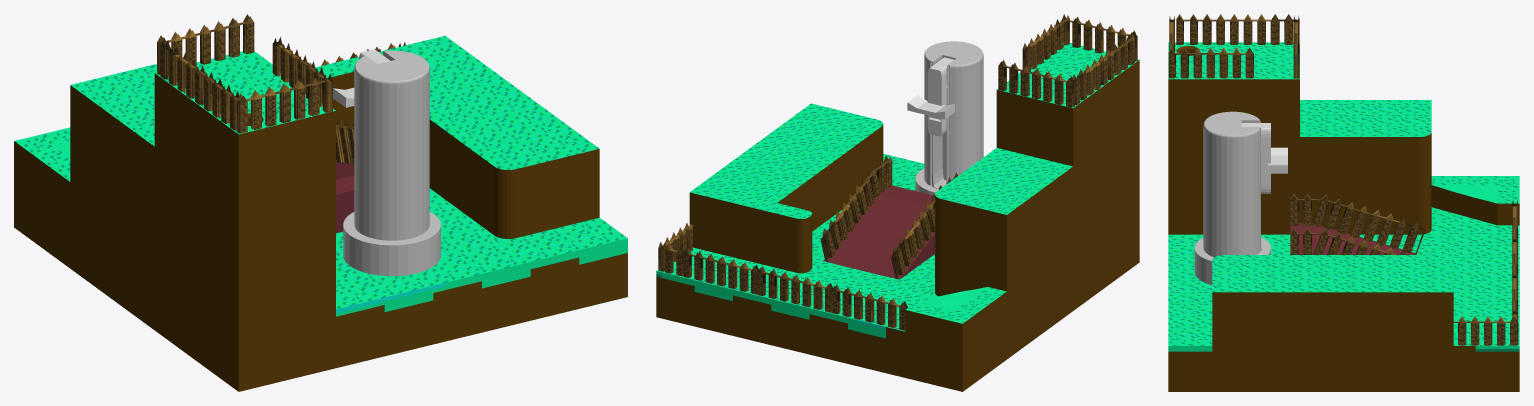
Rendered from NNLVL6THISONETHISONEWORKS.fbx.
3 views of the same model, side by side, from view 1: azimuth 30°, elevation 25°; view 2: azimuth 150°, elevation 25°; view 3: azimuth 270°, elevation 25° (orthographic). The views are drawn at different scales.
Parts seen in each view (by area): view 1: stage, tower, towerbase, Fence.010, Fence.005, Fence.004, Fence.003, ramp, Fence.002; view 2: stage, tower, ramp, Fence.002, Fence.004, Fence.006, Fence.008, Fence.007, Fence.005, Fence.001, Fence.003, Fence.010 (+4 smaller); view 3: stage, tower, Fence.001, Fence.005, Fence.003, Fence.009, ramp, Fence.002, towerbase, moving thingy, Fence.012, moving platform (+2 smaller).
Boxes of the visible parts, left/top/right/bottom form: stage: left=14, top=35, right=627, bottom=391; tower: left=354, top=50, right=429, bottom=240; towerbase: left=343, top=212, right=440, bottom=276; Fence.010: left=236, top=76, right=324, bottom=133; Fence.005: left=158, top=40, right=231, bottom=123; Fence.004: left=157, top=14, right=254, bottom=74; Fence.003: left=272, top=37, right=332, bottom=112; ramp: left=336, top=160, right=354, bottom=233; Fence.002: left=336, top=118, right=354, bottom=164; stage: left=656, top=43, right=1139, bottom=391; tower: left=924, top=41, right=983, bottom=188; ramp: left=823, top=185, right=934, bottom=279; Fence.002: left=820, top=168, right=881, bottom=261; Fence.004: left=998, top=60, right=1074, bottom=107; Fence.006: left=831, top=284, right=907, bottom=330; Fence.008: left=683, top=248, right=758, bottom=294; Fence.007: left=757, top=266, right=832, bottom=312; Fence.005: left=1071, top=39, right=1127, bottom=105; Fence.001: left=891, top=185, right=942, bottom=278; Fence.003: left=1022, top=14, right=1069, bottom=71; Fence.010: left=1067, top=16, right=1137, bottom=61; stage: left=1168, top=42, right=1519, bottom=391; tower: left=1203, top=111, right=1262, bottom=257; Fence.001: left=1312, top=194, right=1425, bottom=254; Fence.005: left=1190, top=14, right=1296, bottom=44; Fence.003: left=1168, top=47, right=1253, bottom=78; Fence.009: left=1453, top=309, right=1518, bottom=345; ramp: left=1290, top=223, right=1415, bottom=254; Fence.002: left=1313, top=228, right=1405, bottom=254; towerbase: left=1194, top=237, right=1270, bottom=285; moving thingy: left=1241, top=123, right=1270, bottom=193; Fence.012: left=1290, top=193, right=1321, bottom=225; moving platform: left=1267, top=147, right=1287, bottom=173.
Bounding box in the file's own units: 152 × 110 × 152.
